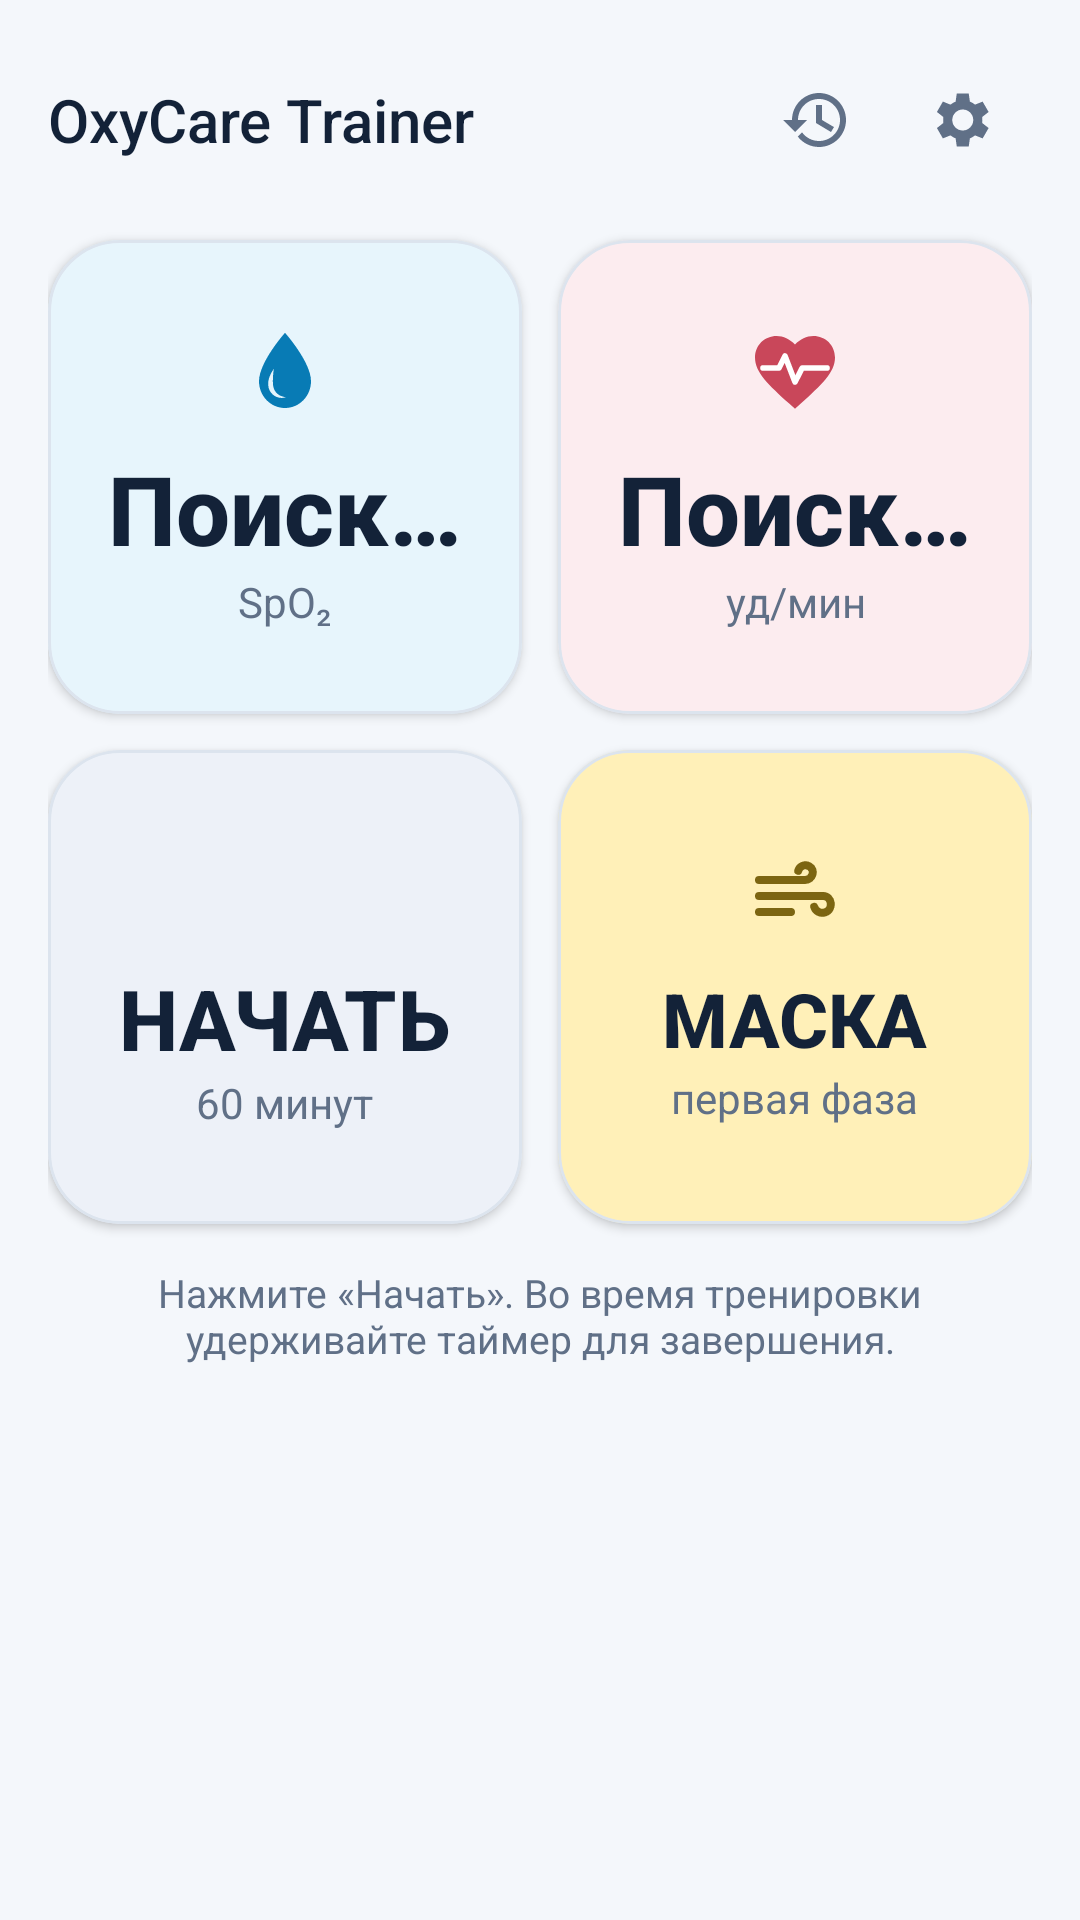

Locate icon controls on the screen. Image size 1080 × 1920, boxes as (x1, y1, x2, y2).
История тренировок: (783, 93, 846, 147)
Настройки: (937, 93, 989, 147)
Пульс: (755, 336, 835, 409)
Сатурация: (259, 333, 311, 408)
Фаза дыхания: (755, 861, 835, 917)
